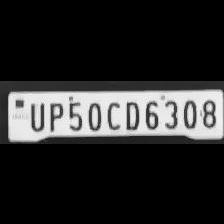0: (84, 98, 104, 130), (178, 96, 198, 128)
3: (161, 96, 179, 128)
5: (64, 98, 84, 130)
6: (140, 96, 160, 128)
8: (198, 96, 218, 128)
C: (104, 97, 120, 129)
D: (122, 97, 140, 129)
P: (44, 99, 64, 131)
U: (26, 98, 46, 130)
